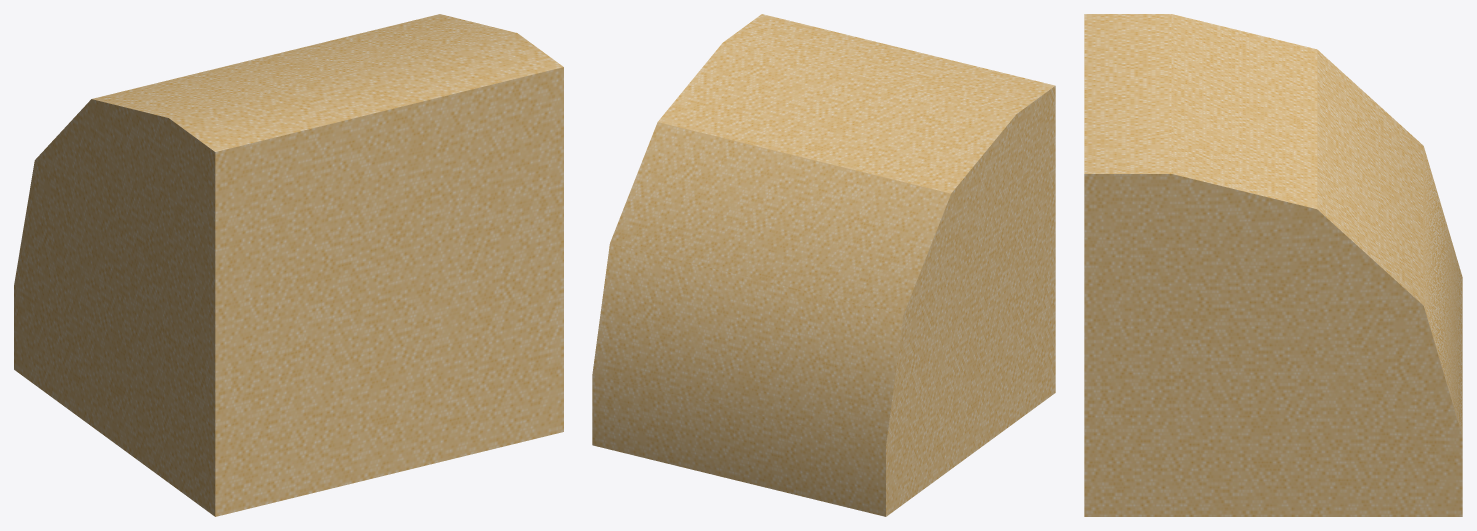
Rendered from POL0410014.fbx.
3 renders of one model, left to right at view 1: azimuth 30°, elevation 25°; view 2: azimuth 150°, elevation 25°; view 3: azimuth 270°, elevation 25°, orthographic. The views are drawn at different scales.
Visible parts, largest first — view 1: smPOL0410014; view 2: smPOL0410014; view 3: smPOL0410014.
Boxes of the visible parts, box(x1,y1,x2,y2) form: smPOL0410014: box(14, 14, 563, 516); smPOL0410014: box(592, 14, 1055, 516); smPOL0410014: box(1084, 14, 1462, 516).
Size of the model in its own units: 161 by 161 by 161.
Materials: 1 (1 with a texture image).
